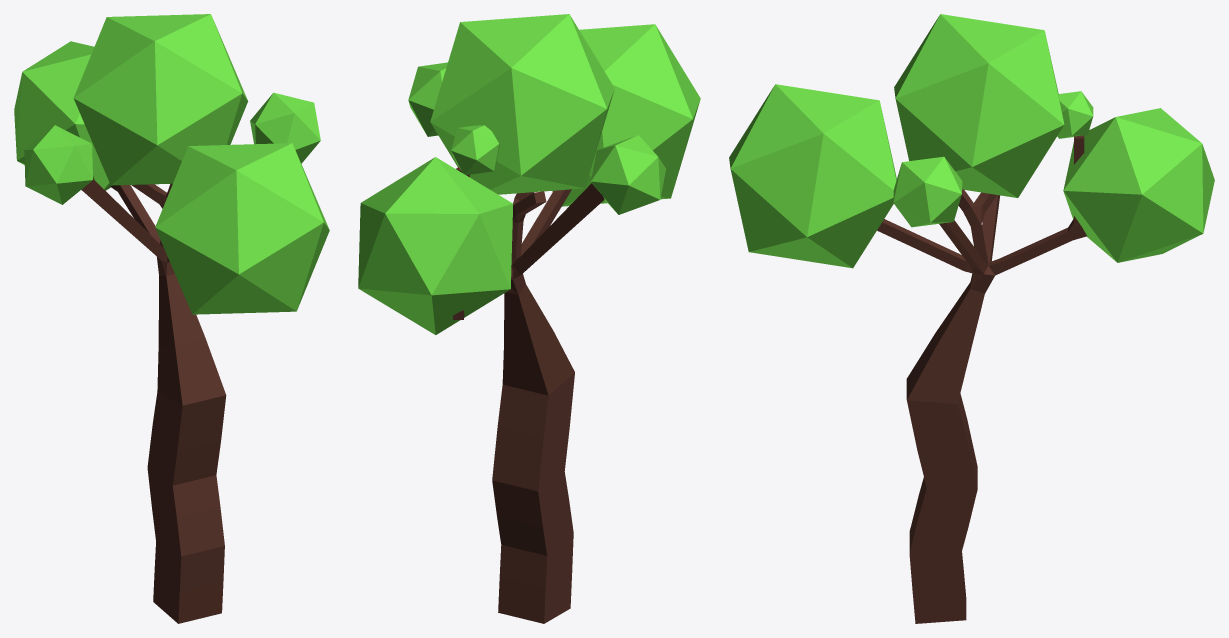
Rendered from Pohon-LowPoly2.fbx.
The picture shows the model from 3 angles, left to right: view 1: azimuth 30°, elevation 25°; view 2: azimuth 150°, elevation 25°; view 3: azimuth 270°, elevation 25°; orthographic projection. The views are drawn at different scales.
Visible parts, largest first — view 1: Cube.001, Icosphere.005, Icosphere.006, Icosphere.008, Icosphere.010, Icosphere.007; view 2: Cube.001, Icosphere.006, Icosphere.008, Icosphere.005, Icosphere.010, Icosphere.009, Icosphere.007; view 3: Icosphere.005, Cube.001, Icosphere.006, Icosphere.008, Icosphere.007, Icosphere.009.
Boxes of the visible parts, x1,y1,x2,y2 form: Cube.001: (81, 179, 226, 623); Icosphere.005: (155, 143, 329, 314); Icosphere.006: (73, 14, 248, 185); Icosphere.008: (14, 41, 110, 190); Icosphere.010: (24, 125, 92, 204); Icosphere.007: (250, 92, 320, 163); Cube.001: (453, 167, 604, 623); Icosphere.006: (430, 14, 614, 194); Icosphere.008: (358, 157, 513, 334); Icosphere.005: (552, 24, 700, 206); Icosphere.010: (591, 135, 665, 214); Icosphere.009: (451, 125, 499, 175); Icosphere.007: (408, 62, 447, 136); Icosphere.005: (729, 84, 896, 268); Cube.001: (877, 135, 1086, 623); Icosphere.006: (894, 14, 1064, 197); Icosphere.008: (1063, 108, 1214, 262); Icosphere.007: (893, 156, 962, 227); Icosphere.009: (1057, 91, 1093, 138).
Bounding box in the file's own units: 861 × 1797 × 1358.
